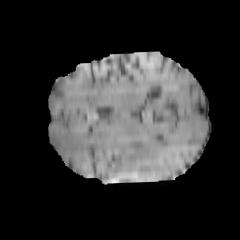glioma: (52, 128, 182, 183)
